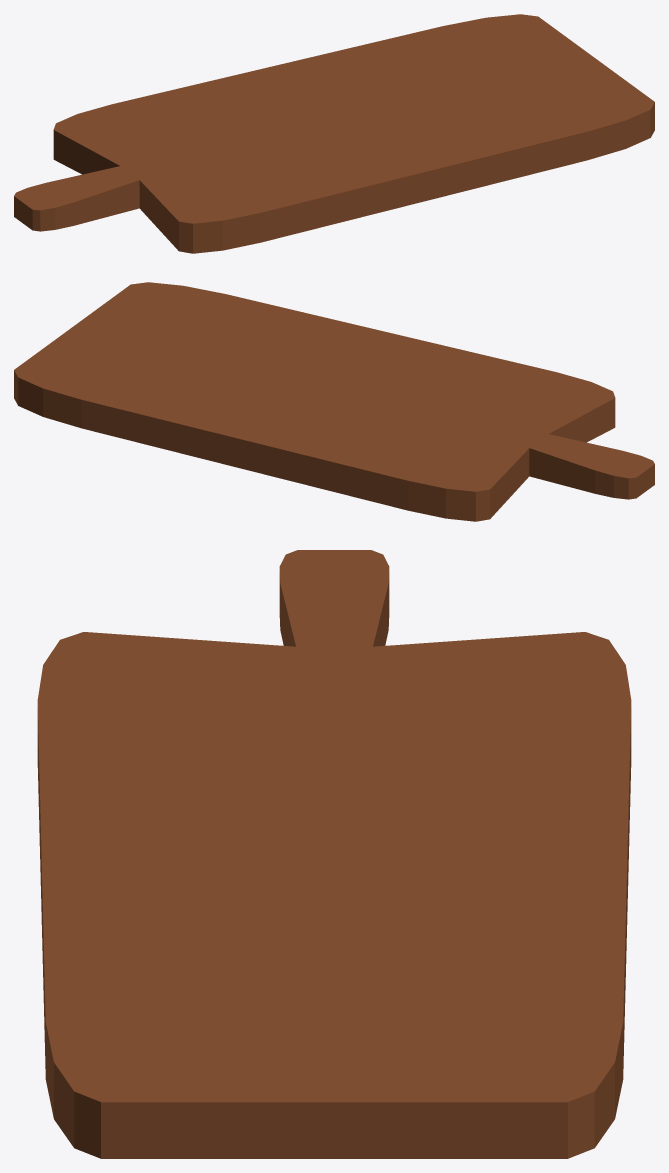
File: Cutting_Board.fbx
The picture shows the model from 3 angles, top to bottom: view 1: azimuth 30°, elevation 25°; view 2: azimuth 150°, elevation 25°; view 3: azimuth 270°, elevation 25°; orthographic projection. The views are drawn at different scales.
Parts seen in each view (by area): view 1: Cutting board; view 2: Cutting board; view 3: Cutting board.
Boxes of the visible parts, x1,y1,x2,y2 form: Cutting board: [14, 14, 654, 253]; Cutting board: [14, 282, 654, 521]; Cutting board: [37, 550, 631, 1158].
Size of the model in its own units: 43.6 by 2.18 by 19.55.
